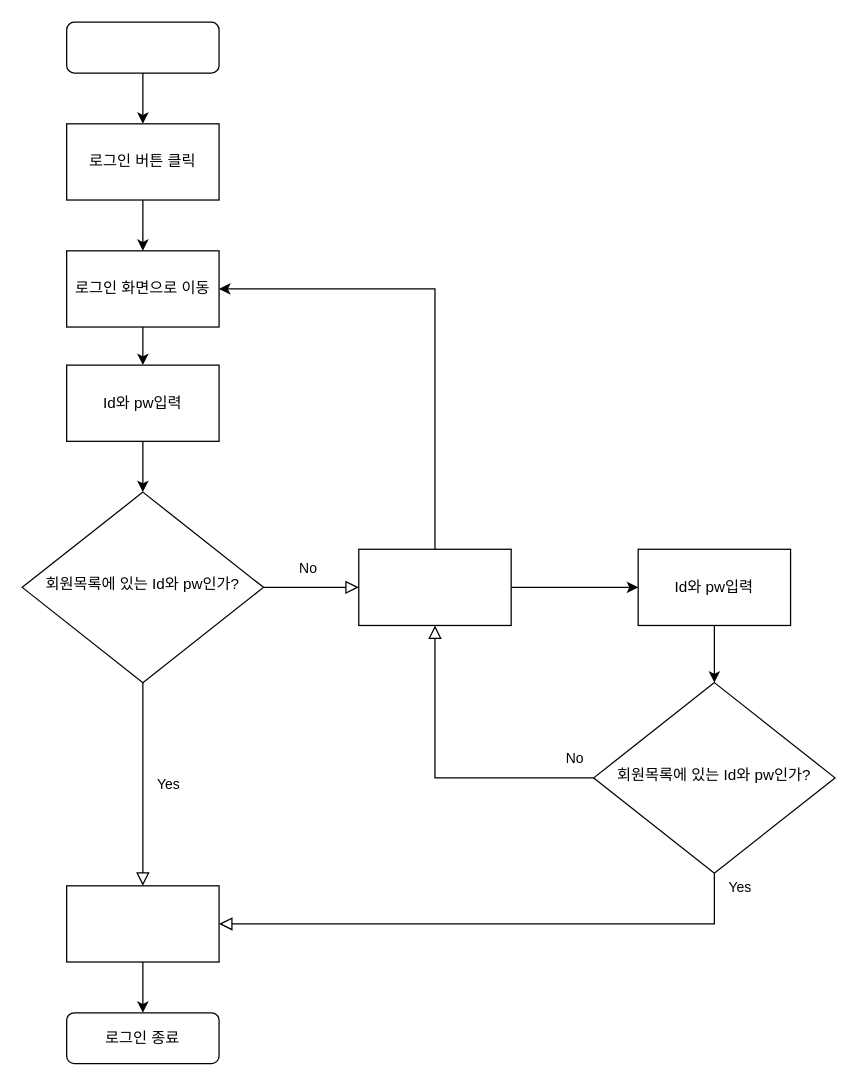
Image size: 857x1086. Some labels were removed from this diagram. Here are the shapes that lost their labels. From the top down, the box of each, then its label:
(65, 21, 219, 73): 로그인 시작
(358, 548, 511, 625): 실패 메시지 추가한 로그인 화면으로 이동
(65, 885, 219, 962): 로그인된 상태로 메인 페이지로 이동
